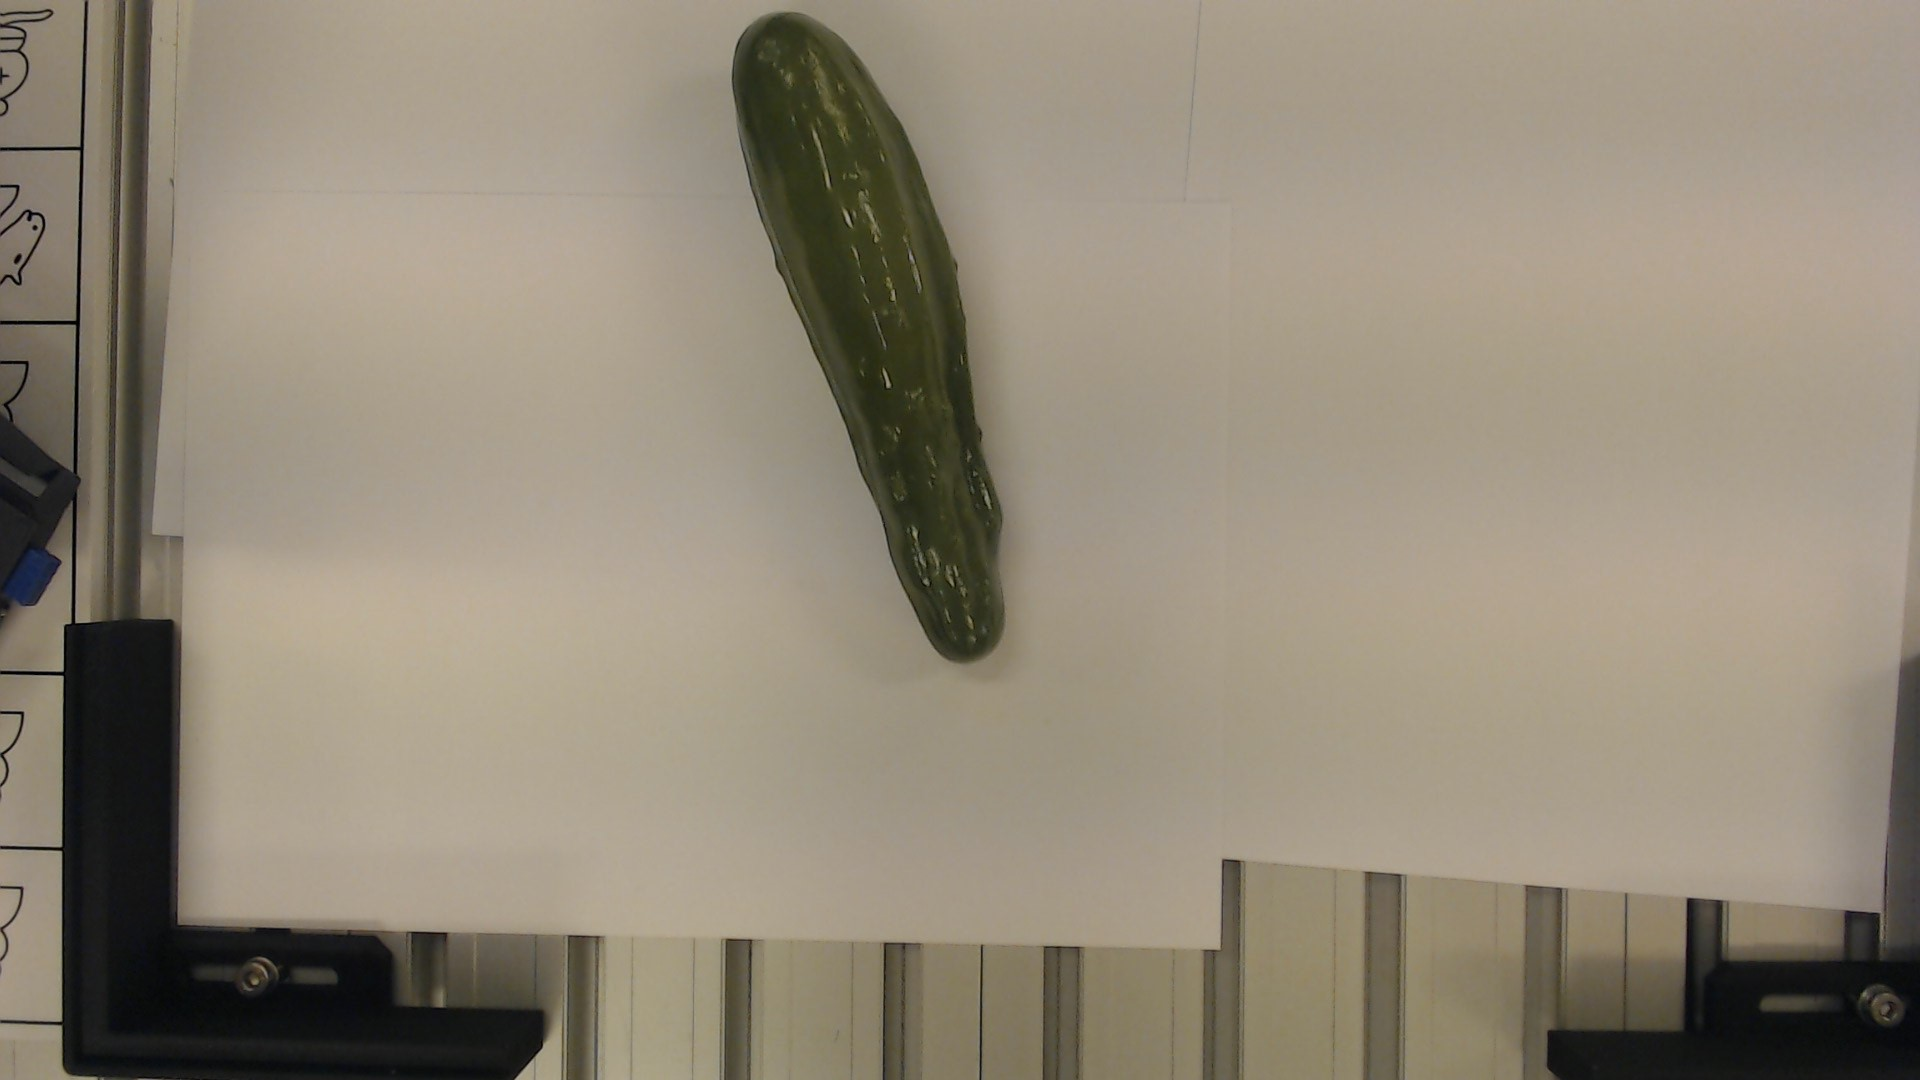Cucumber: (719, 9, 1014, 658)
